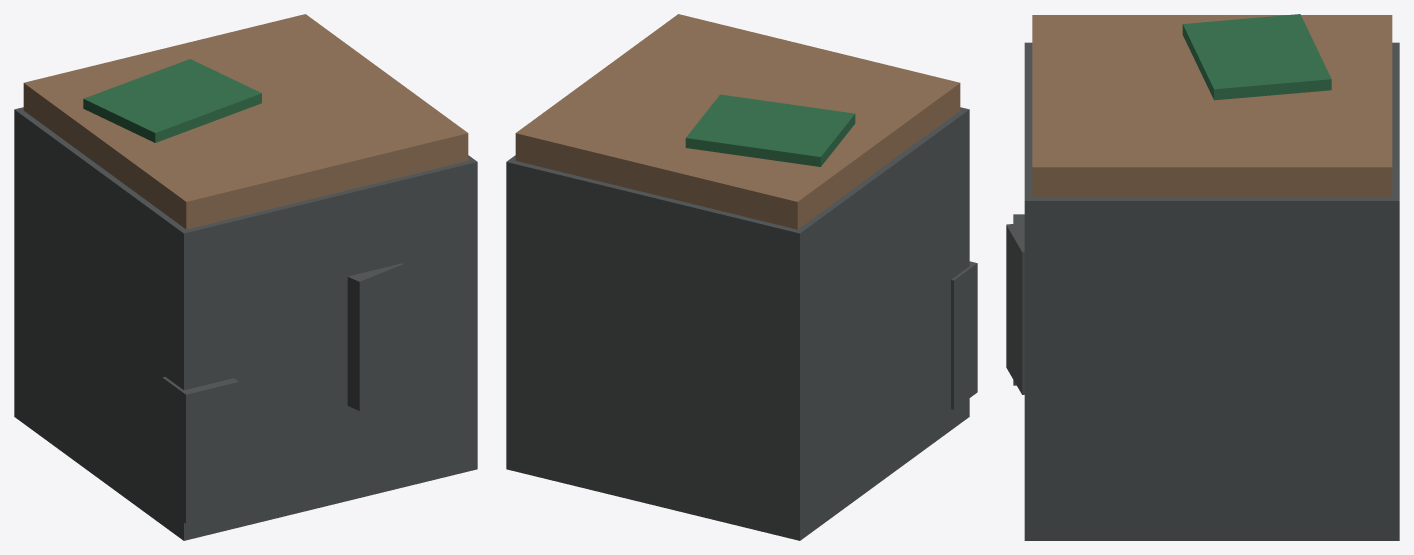
File: df_cliff_chunk_a.glb
3 renders of one model, left to right at view 1: azimuth 30°, elevation 25°; view 2: azimuth 150°, elevation 25°; view 3: azimuth 270°, elevation 25°, orthographic. The views are drawn at different scales.
Parts seen in each view (by area): view 1: cliff_mass, mud_cap, rock_chip_0, moss_cap_patch, rock_chip_2; view 2: cliff_mass, mud_cap, moss_cap_patch, rock_chip_0; view 3: cliff_mass, mud_cap, moss_cap_patch, rock_chip_2.
Part boxes in pixels (<box>): cliff_mass: <box>14,107,477,540</box>; mud_cap: <box>23,14,468,229</box>; rock_chip_0: <box>162,377,238,523</box>; moss_cap_patch: <box>83,59,261,142</box>; rock_chip_2: <box>347,263,403,410</box>; cliff_mass: <box>506,107,969,540</box>; mud_cap: <box>515,14,960,229</box>; moss_cap_patch: <box>685,94,855,166</box>; rock_chip_0: <box>951,261,977,409</box>; cliff_mass: <box>1024,42,1399,540</box>; mud_cap: <box>1032,15,1392,197</box>; moss_cap_patch: <box>1182,14,1331,100</box>; rock_chip_2: <box>1006,222,1024,394</box>.
Bounding box in the file's own units: 1.01 × 1.12 × 1.05.
